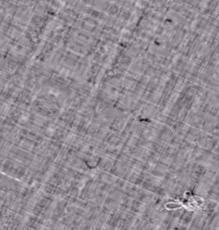snag: (160, 183, 209, 219)
